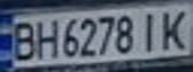2: (78, 14, 100, 58)
6: (60, 15, 81, 60)
7: (97, 12, 118, 56)
8: (112, 11, 139, 55)
B: (6, 18, 39, 62)
H: (30, 16, 60, 61)
I: (136, 8, 166, 53)
K: (154, 4, 193, 51)
